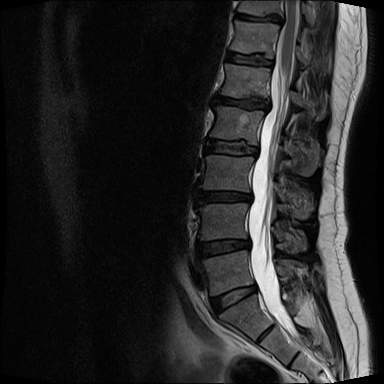Lumbar Disc Bulge (LDB): (195, 234, 256, 263), (211, 92, 275, 115), (197, 185, 255, 208)
Normal IVD: (206, 280, 262, 319), (203, 135, 260, 160), (223, 49, 277, 70)
Spinal Stenosis (SS): (259, 94, 276, 117), (240, 233, 255, 254), (241, 187, 256, 208), (273, 13, 288, 29)
Thoracic Disc Bulge (TDB): (230, 10, 288, 26)
